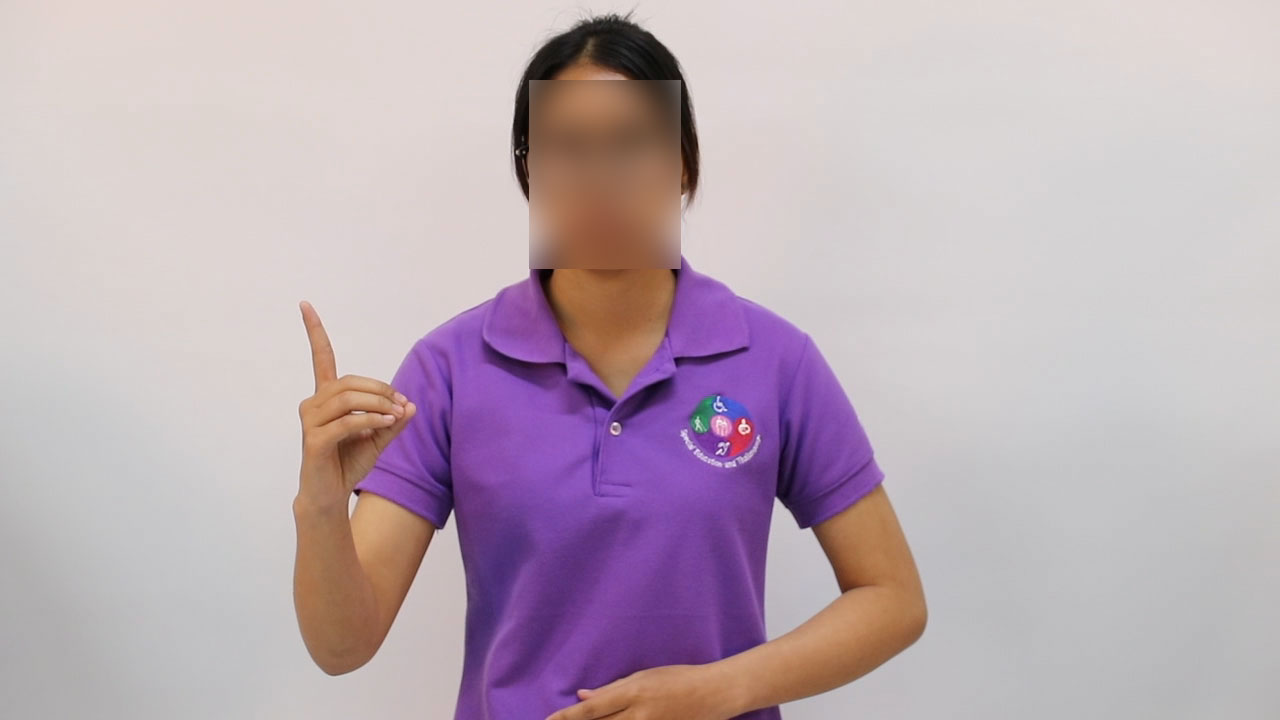dor: (279, 293, 424, 510)
